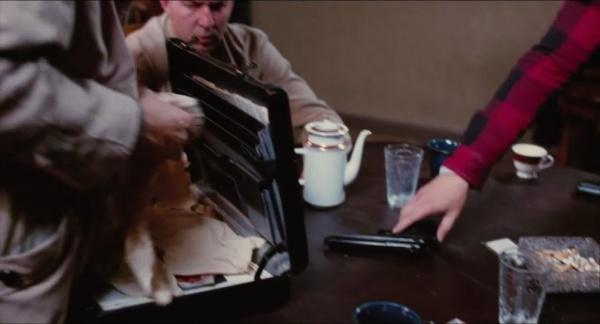Gun: (327, 220, 437, 263)
